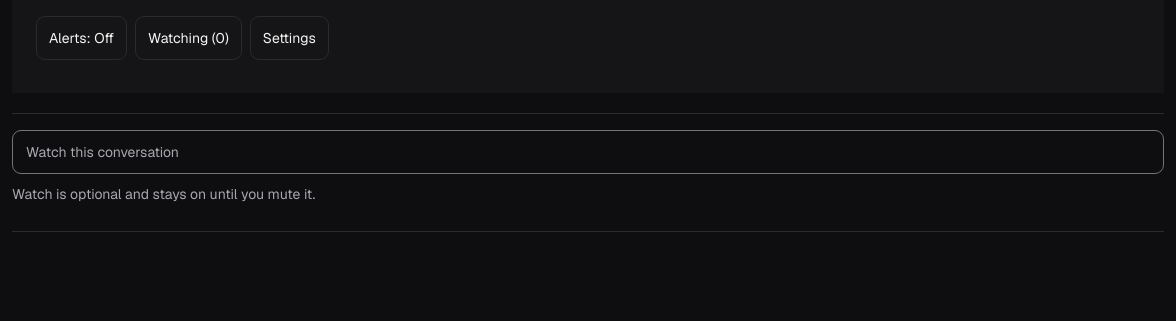
Test: conversation watch UI › does not show a successful watch when the request fails
Click the button "Watch this conversation".
click(102, 152)  # box [12,130,1164,174]
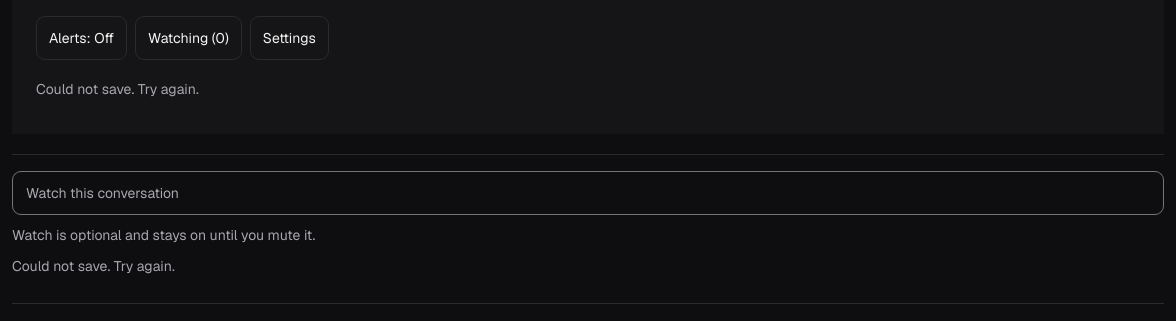
Expected: the button "Watch this conversation" is enabled, [12,171,1164,215]
Expected: the 1st message "Could not save. Try again." is shown, [36,80,199,98]
